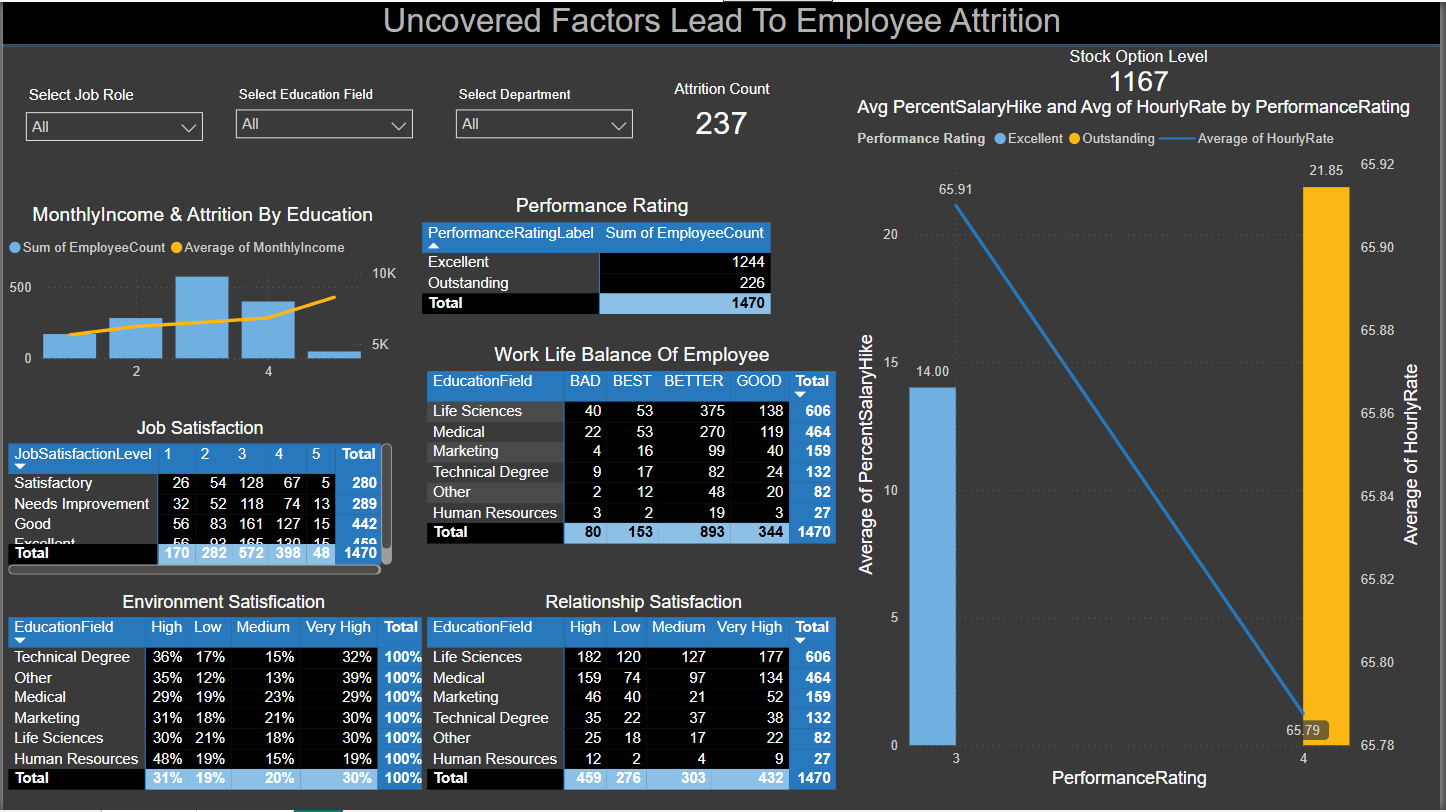

Layout of this report page (visuals, bound fields, positions):
{"tool":"powerbi","page":{"name":"Page 2","canvas":[1280,720],"ordinal":1},"visuals":[{"type":"pivotTable","title":"Job Satisfaction","fields":{"Columns":["HR-Employee-Attrition.Education"],"Rows":["HR-Employee-Attrition.JobSatisfactionLevel"],"Values":["Sum(HR-Employee-Attrition.EmployeeCount)"]},"box":[0,359.6,350.7,155.8],"z":0},{"type":"pivotTable","title":"Environment Satisfication","fields":{"Rows":["HR-Employee-Attrition.EducationField"],"Columns":["HR-Employee-Attrition.EnvironmentSatisfactionLabel"],"Values":["Sum(HR-Employee-Attrition.EmployeeCount)"]},"box":[0,525.6,393,189.5],"z":1000},{"type":"pivotTable","title":"Work Life Balance Of Employee","fields":{"Columns":["HR-Employee-Attrition.WorklifebalanceLabel"],"Rows":["HR-Employee-Attrition.EducationField"],"Values":["Sum(HR-Employee-Attrition.EmployeeCount)"]},"box":[356.2,350.7,375.1,194.8],"z":2000},{"type":"pivotTable","title":"Performance Rating","fields":{"Rows":["HR-Employee-Attrition.PerformanceRatingLabel"],"Values":["Sum(HR-Employee-Attrition.EmployeeCount)"]},"box":[368.6,170.9,330.2,124.4],"z":3000},{"type":"pivotTable","title":"Relationship Satisfaction","fields":{"Values":["CountNonNull(HR-Employee-Attrition.Gender)"],"Rows":["HR-Employee-Attrition.EducationField"],"Columns":["HR-Employee-Attrition.RelationshipSatisfactionLabel"]},"box":[373.3,525.6,395.3,194.2],"z":4000},{"type":"lineClusteredColumnComboChart","title":"Avg PercentSalaryHike and Avg of HourlyRate by PerformanceRating","fields":{"Category":["HR-Employee-Attrition.PerformanceRating"],"Y":["Avg(HR-Employee-Attrition.PercentSalaryHike)"],"Series":["HR-Employee-Attrition.PerformanceRatingLabel"],"Y2":["Avg(HR-Employee-Attrition.HourlyRate)"]},"box":[755.8,84.6,512.1,620],"z":5000},{"type":"shape","title":"Uncovered Factors Lead To Employee Attrition","box":[0,0,1280.3,39.9],"z":6000},{"type":"lineClusteredColumnComboChart","title":"MonthlyIncome & Attrition By Education","fields":{"Category":["HR-Employee-Attrition.Education"],"Y2":["Avg(HR-Employee-Attrition.MonthlyIncome)"],"Y":["Sum(HR-Employee-Attrition.EmployeeCount)"]},"box":[0,179.2,356.2,171.4],"z":7000},{"type":"card","title":"Stock Option Level","fields":{"Values":["Sum(HR-Employee-Attrition.StockOptionLevel)"]},"box":[917.3,40.1,188.1,44.5],"z":7001},{"type":"slicer","fields":{"Values":["HR-Employee-Attrition.JobRole"]},"box":[10,70.1,168.1,60.1],"z":7002},{"type":"slicer","fields":{"Values":["HR-Employee-Attrition.EducationField"]},"box":[196.5,69.8,177.9,60.5],"z":7003},{"type":"slicer","fields":{"Values":["HR-Employee-Attrition.Department"]},"box":[393,69.8,177.9,60.5],"z":7004},{"type":"card","title":"Attrition Count","fields":{"Values":["Sum(HR-Employee-Attrition.AttritionCount)"]},"box":[582.6,69.8,116.3,60.5],"z":7005}]}

Visuals, with their boxes in screenshot pixels (x1, y1, x2, y2), scaled from the page's 1280x720 canvas onto the 1446x812 screenshot:
"Job Satisfaction" pivotTable: Rect(0, 406, 396, 581)
"Environment Satisfication" pivotTable: Rect(0, 593, 444, 806)
"Work Life Balance Of Employee" pivotTable: Rect(402, 396, 826, 615)
"Performance Rating" pivotTable: Rect(416, 193, 789, 333)
"Relationship Satisfaction" pivotTable: Rect(422, 593, 868, 811)
"Avg PercentSalaryHike and Avg of HourlyRate by PerformanceRating" lineClusteredColumnComboChart: Rect(854, 95, 1432, 795)
"Uncovered Factors Lead To Employee Attrition" shape: Rect(0, 0, 1445, 45)
"MonthlyIncome & Attrition By Education" lineClusteredColumnComboChart: Rect(0, 202, 402, 395)
"Stock Option Level" card: Rect(1036, 45, 1249, 95)
slicer - HR-Employee-Attrition.JobRole: Rect(11, 79, 201, 147)
slicer - HR-Employee-Attrition.EducationField: Rect(222, 79, 423, 147)
slicer - HR-Employee-Attrition.Department: Rect(444, 79, 645, 147)
"Attrition Count" card: Rect(658, 79, 790, 147)
